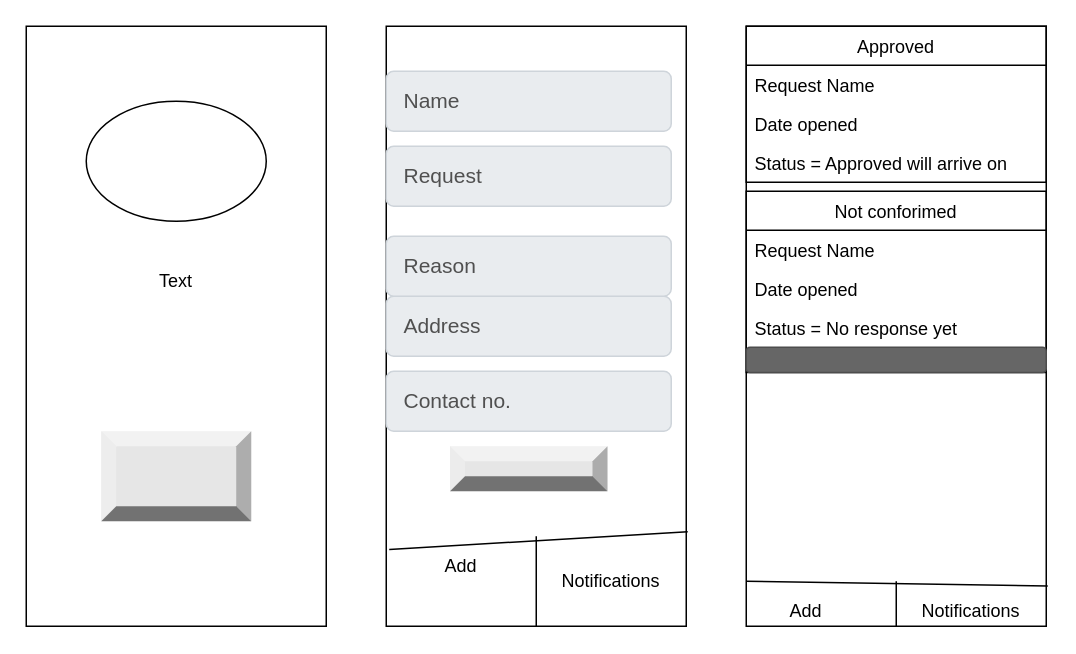
The diagram is 1076 pixels wide and 654 high, and some of its shapes have lost their labels. Here are the shapes that lost their labels. From the top down, the box of each, then its label:
(745, 346, 1046, 373): Cancel Request
(100, 430, 250, 520): Google Auth
(449, 446, 607, 490): Submit
